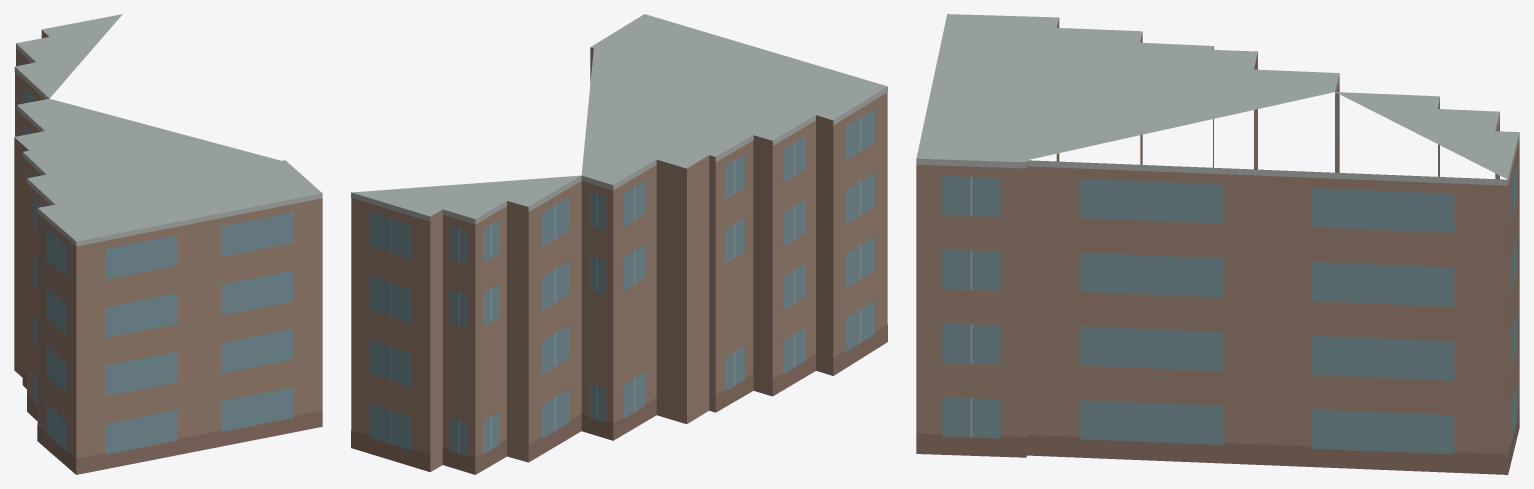
Rendered from survey-upis-32505464.glb.
The picture shows the model from 3 angles, left to right: view 1: azimuth 30°, elevation 25°; view 2: azimuth 150°, elevation 25°; view 3: azimuth 270°, elevation 25°; orthographic projection. The views are drawn at different scales.
Visible parts, largest first — view 1: survey-upis-32505464.tmp; view 2: survey-upis-32505464.tmp; view 3: survey-upis-32505464.tmp.
Part boxes in pixels (bbox=[...]): survey-upis-32505464.tmp: bbox=[14, 14, 322, 474]; survey-upis-32505464.tmp: bbox=[351, 14, 887, 474]; survey-upis-32505464.tmp: bbox=[916, 14, 1519, 474].
Size of the model in its own units: 14.21 by 11.8 by 21.86.
